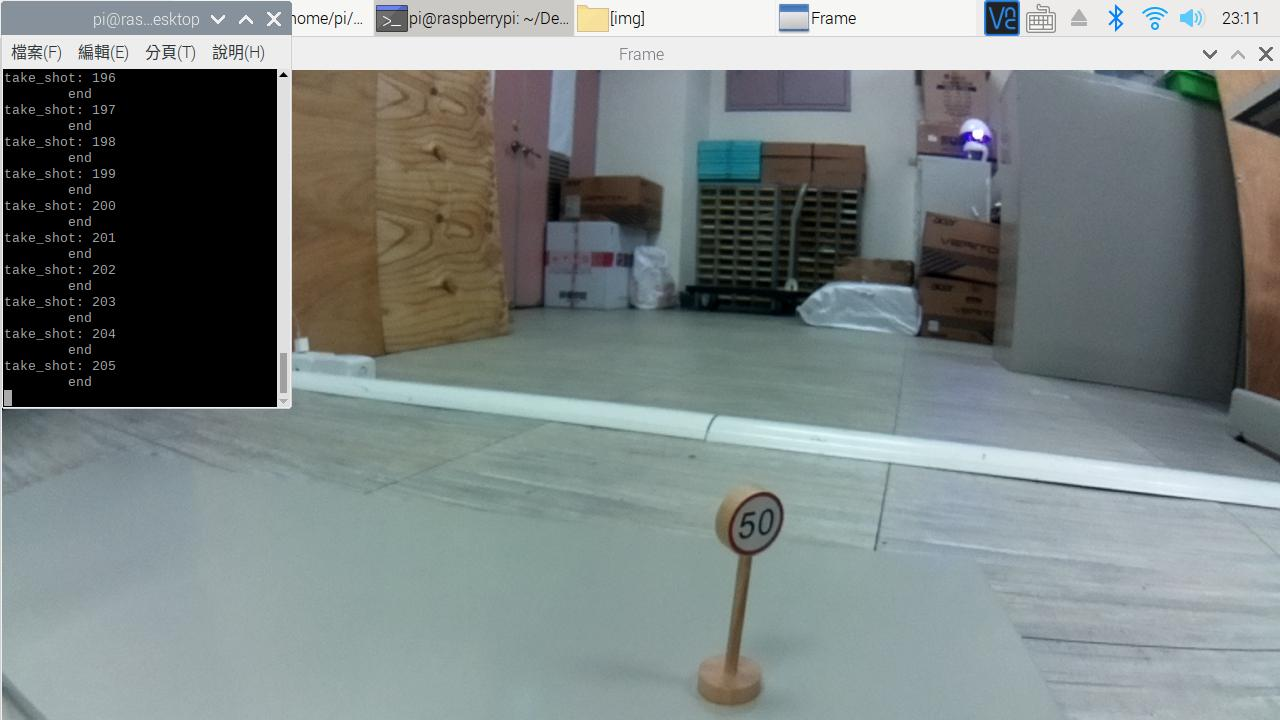Speed50: (703, 478, 807, 560)
